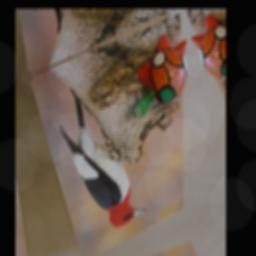Woodpecker: (50, 67, 148, 245)
